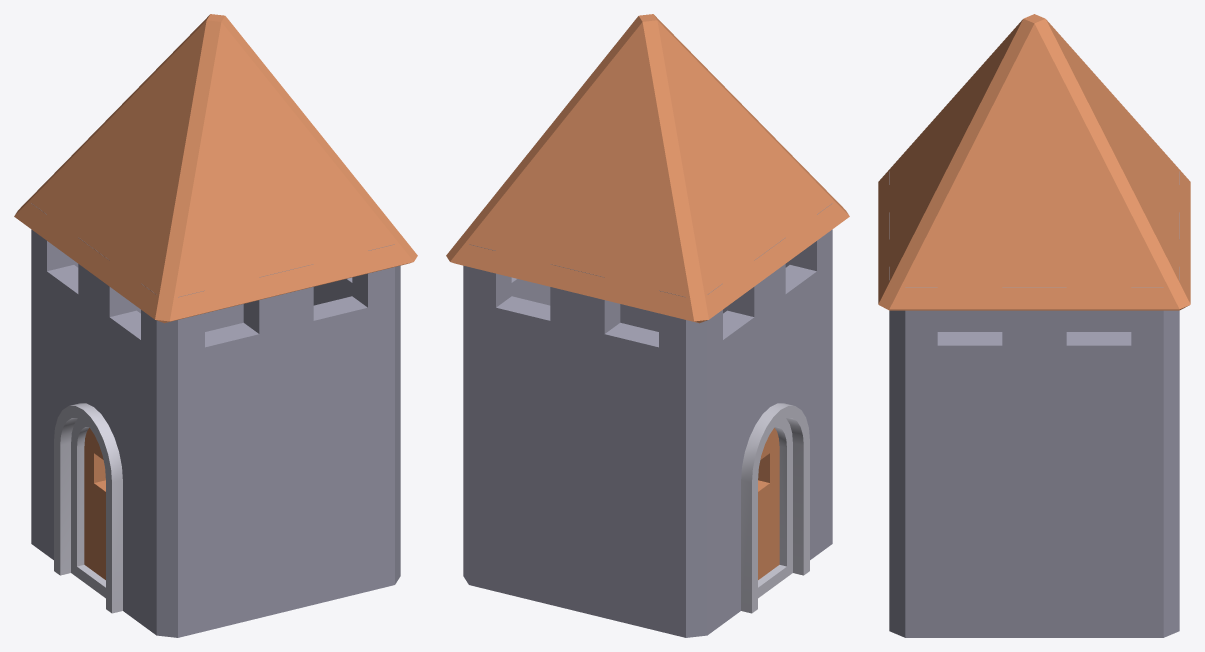
Rendered from capstone2.fbx.
The picture shows the model from 3 angles, left to right: view 1: azimuth 30°, elevation 25°; view 2: azimuth 150°, elevation 25°; view 3: azimuth 270°, elevation 25°; orthographic projection. The views are drawn at different scales.
Parts seen in each view (by area): view 1: roof_point_13, wall_straight_9, wall_doorwayRound_6, battlement_straight_3, battlement_straight_2, door_round_12, wall_straight_7, battlement_straight_0, wall_straight_10; view 2: roof_point_13, wall_straight_10, wall_doorwayRound_6, battlement_straight_4, battlement_straight_2, door_round_12, wall_straight_7, battlement_straight_0, wall_straight_9; view 3: wall_straight_7, roof_point_13, battlement_straight_0, wall_doorwayRound_6.
Boxes of the visible parts, left/top/right/bottom form: roof_point_13: left=14, top=14, right=417, bottom=323; wall_straight_9: left=178, top=358, right=394, bottom=637; wall_doorwayRound_6: left=31, top=317, right=177, bottom=637; battlement_straight_3: left=178, top=244, right=394, bottom=410; battlement_straight_2: left=31, top=203, right=177, bottom=410; door_round_12: left=71, top=418, right=105, bottom=598; wall_straight_7: left=395, top=349, right=400, bottom=584; battlement_straight_0: left=313, top=265, right=400, bottom=357; wall_straight_10: left=136, top=304, right=243, bottom=331; roof_point_13: left=446, top=14, right=849, bottom=323; wall_straight_10: left=469, top=358, right=685, bottom=637; wall_doorwayRound_6: left=686, top=317, right=832, bottom=637; battlement_straight_4: left=469, top=244, right=685, bottom=410; battlement_straight_2: left=686, top=203, right=832, bottom=410; door_round_12: left=758, top=418, right=792, bottom=598; wall_straight_7: left=463, top=349, right=468, bottom=584; battlement_straight_0: left=463, top=265, right=550, bottom=357; wall_straight_9: left=620, top=304, right=727, bottom=331; wall_straight_7: left=889, top=397, right=1179, bottom=637; roof_point_13: left=878, top=14, right=1190, bottom=310; battlement_straight_0: left=889, top=287, right=1179, bottom=403; wall_doorwayRound_6: left=937, top=310, right=1131, bottom=331.
Bounding box in the file's own units: 12.18 × 23.86 × 12.11.
